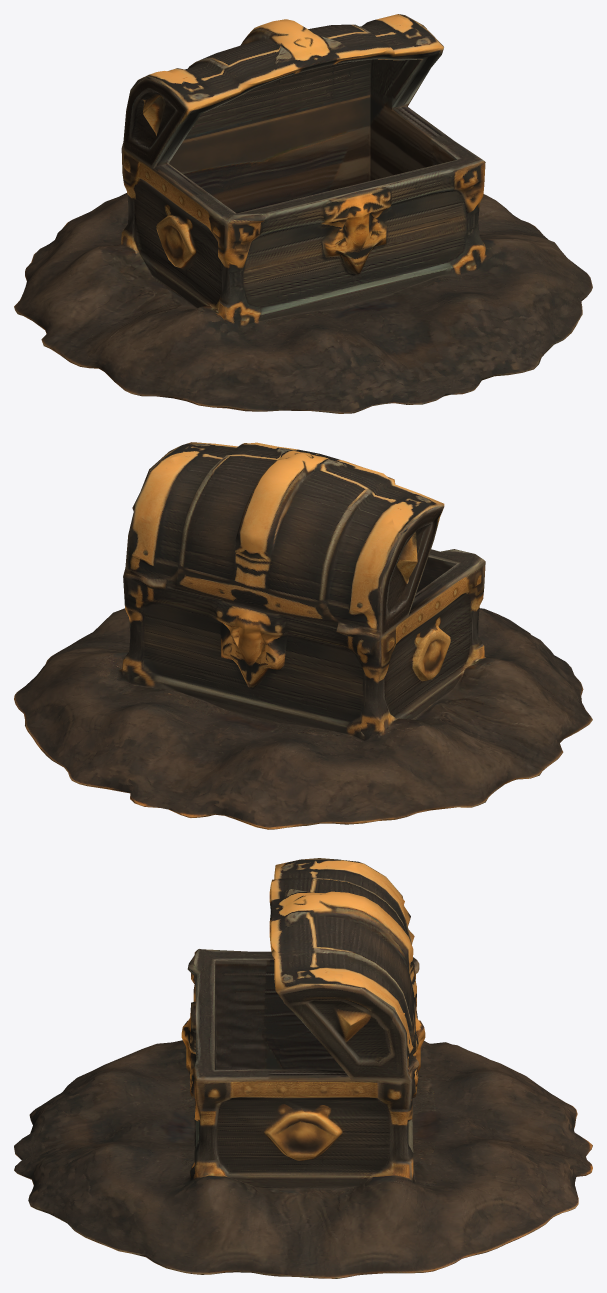
File: grave_goods_chest.glb
3 views of the same model, one above another, from view 1: azimuth 30°, elevation 25°; view 2: azimuth 150°, elevation 25°; view 3: azimuth 270°, elevation 25° (orthographic). The views are drawn at different scales.
Size of the model in its own units: 1.9 by 0.9628 by 1.91.
Materials: 1 (1 with a texture image).
